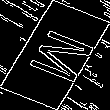M_SE: (14, 23, 96, 87)
